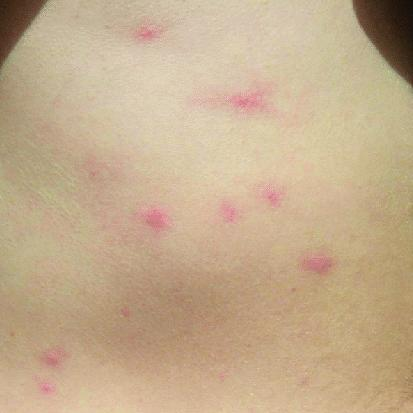Fleas: (223, 81, 277, 128), (30, 345, 64, 396), (137, 200, 173, 238), (302, 253, 334, 276), (135, 22, 166, 41), (218, 200, 239, 222), (262, 189, 285, 209)
